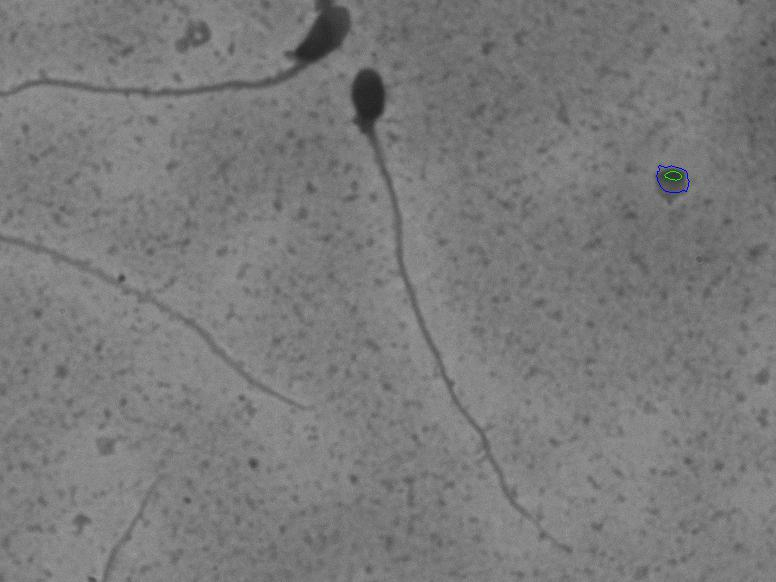Abnormal: (30, 0, 357, 131)
Normal: (301, 30, 587, 565)
